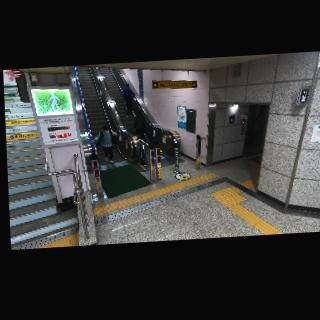normal: (91, 124, 120, 168), (130, 104, 149, 143), (119, 82, 137, 120)
